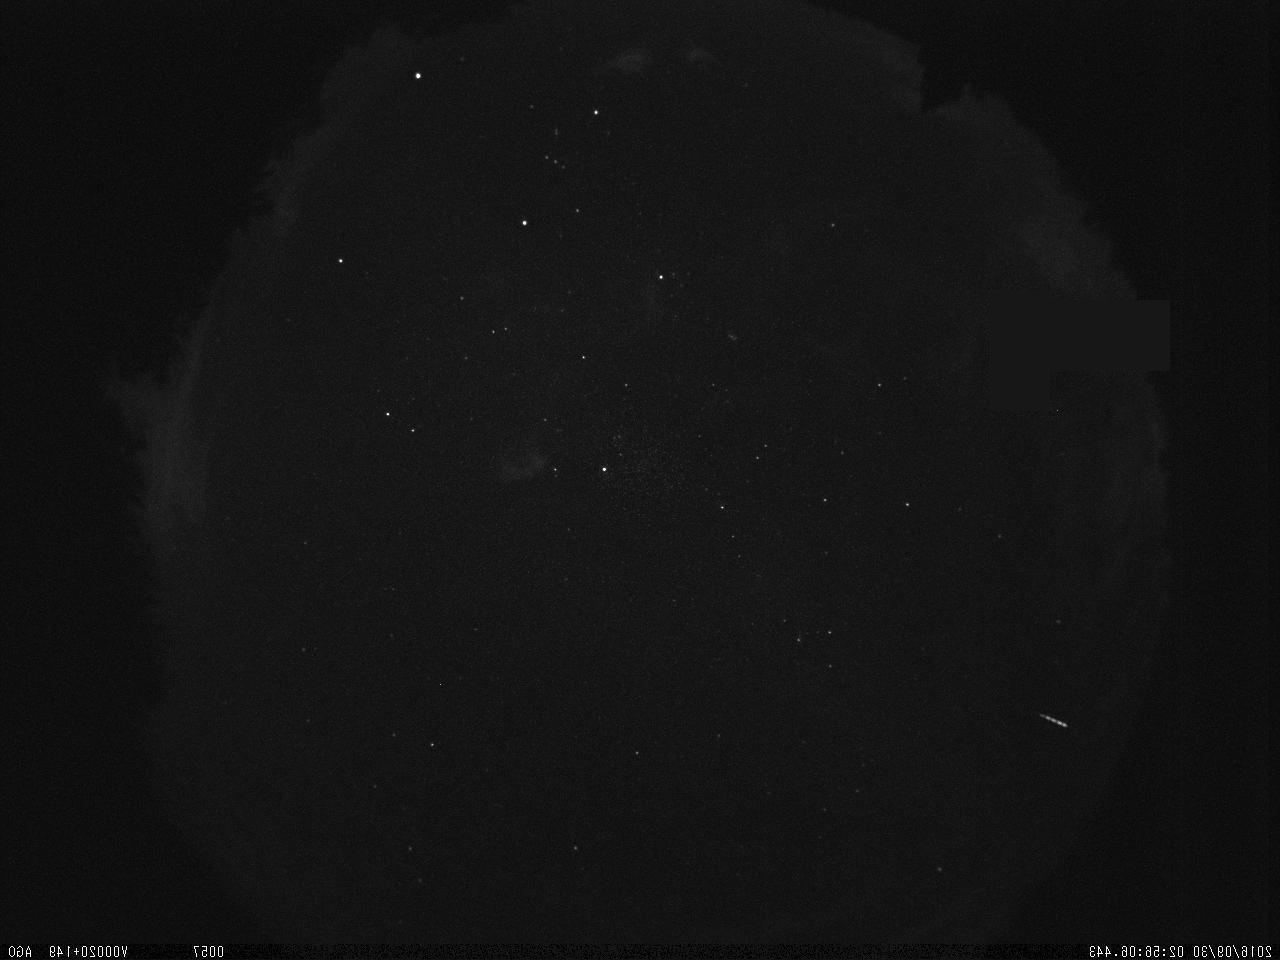meteor: (1027, 700, 1078, 740)
